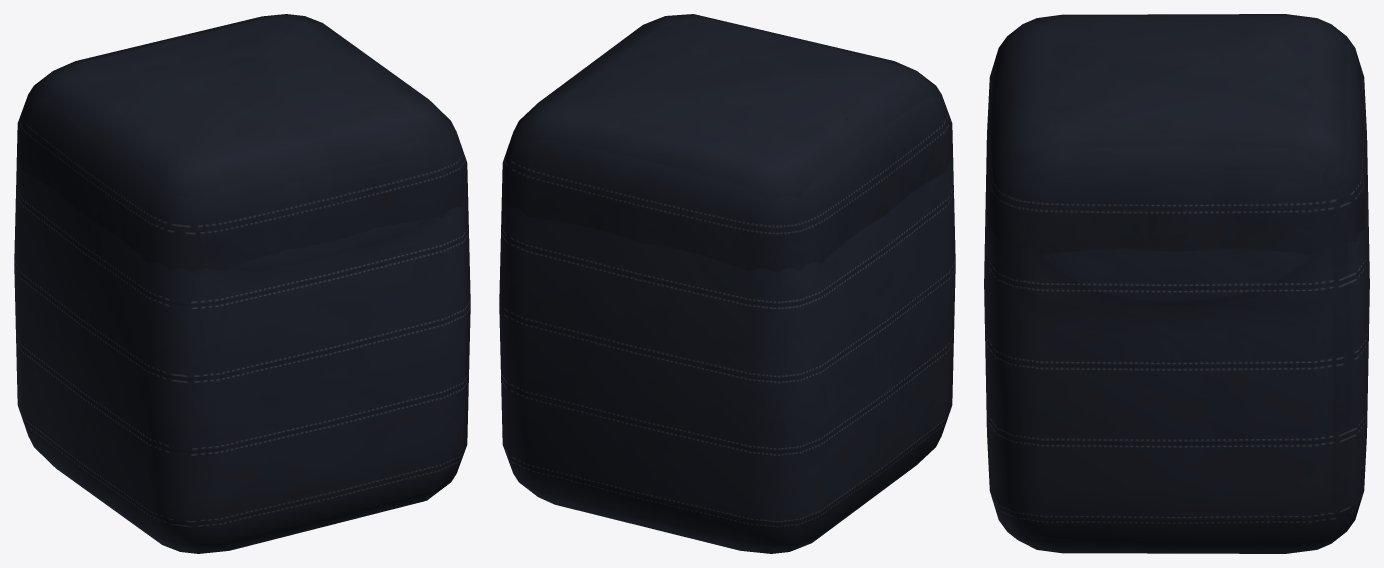
File: Remache_PiernaDer.fbx
The picture shows the model from 3 angles, left to right: view 1: azimuth 30°, elevation 25°; view 2: azimuth 150°, elevation 25°; view 3: azimuth 270°, elevation 25°; orthographic projection. The views are drawn at different scales.
Visible parts, largest first — view 1: Remache_PiernaDer; view 2: Remache_PiernaDer; view 3: Remache_PiernaDer.
Boxes of the visible parts, x1=… form: Remache_PiernaDer: x1=14, y1=14, x2=470, y2=553; Remache_PiernaDer: x1=499, y1=14, x2=955, y2=553; Remache_PiernaDer: x1=984, y1=14, x2=1369, y2=553.
Size of the model in its own units: 1.8 by 2.15 by 1.77.
